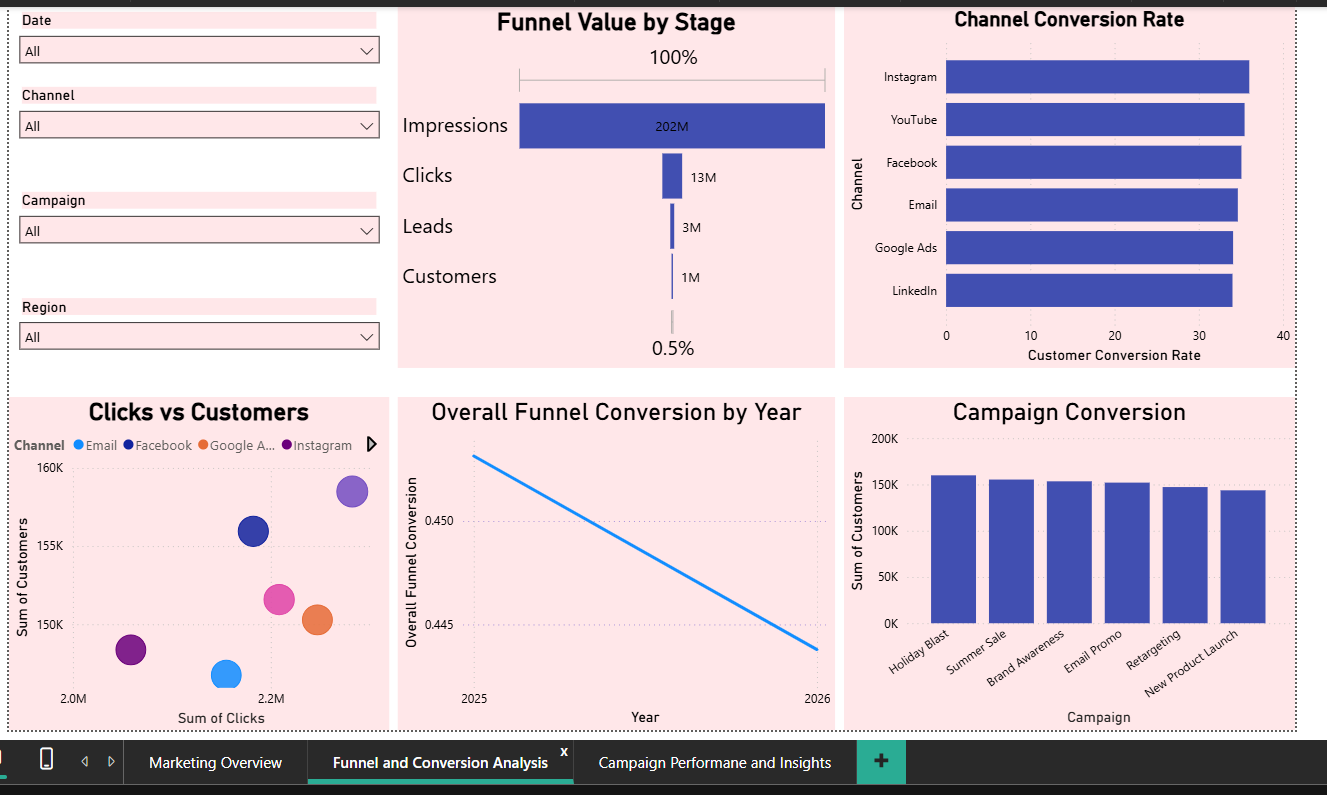

The dashboard page shown, as its layout file describes it:
{"tool":"powerbi","page":{"name":"Funnel and Conversion Analysis","canvas":[1280,720],"ordinal":1},"visuals":[{"type":"funnel","fields":{"Category":["FunnelStages.Stage"],"Y":["FunnelStages.Funnel Value"]},"box":[386.9,0,435.4,359.5],"z":0},{"type":"lineChart","fields":{"Category":["Marketing_Funnel_Data.Date.Variation.Date Hierarchy.Year","Marketing_Funnel_Data.Date.Variation.Date Hierarchy.Quarter","Marketing_Funnel_Data.Date.Variation.Date Hierarchy.Month","Marketing_Funnel_Data.Date.Variation.Date Hierarchy.Day"],"Y":["Marketing_Funnel_Data.Overall Funnel Conversion"]},"box":[386.9,388.1,435.4,332.1],"z":1000},{"type":"barChart","title":"Channel Conversion Rate ","fields":{"Category":["Marketing_Funnel_Data.Channel"],"Y":["Marketing_Funnel_Data.Customer Conversion Rate"]},"box":[831,0,449.1,359.5],"z":2000},{"type":"clusteredColumnChart","title":"Campaign Conversion","fields":{"Category":["Marketing_Funnel_Data.Campaign"],"Y":["Sum(Marketing_Funnel_Data.Customers)"]},"box":[831,388.1,449.1,332.1],"z":3000},{"type":"scatterChart","title":"Clicks vs Customers ","fields":{"X":["Sum(Marketing_Funnel_Data.Clicks)"],"Y":["Sum(Marketing_Funnel_Data.Customers)"],"Series":["Marketing_Funnel_Data.Channel"],"Size":["Sum(Marketing_Funnel_Data.Revenue_USD)"]},"box":[0,388.1,378.2,332.1],"z":4000},{"type":"slicer","fields":{"Values":["Marketing_Funnel_Data.Date"]},"box":[0,0,378.6,74.9],"z":5000},{"type":"slicer","fields":{"Values":["Marketing_Funnel_Data.Channel"]},"box":[0,74.9,378.6,74.9],"z":5001},{"type":"slicer","fields":{"Values":["Marketing_Funnel_Data.Campaign"]},"box":[0,179.7,378.6,74.9],"z":5002},{"type":"slicer","fields":{"Values":["Marketing_Funnel_Data.Region"]},"box":[0,284.5,378.6,74.9],"z":5003}]}

Visuals, with their boxes on the page's 1280x720 design canvas (x1, y1, x2, y2). These are canvas units, not pixel positions in the 1327x795 screenshot, which may show the page scaled, cropped or inside an application window:
funnel - FunnelStages.Stage x FunnelStages.Funnel Value: [left=387, top=0, right=822, bottom=360]
lineChart - Marketing_Funnel_Data.Date.Variation.Date Hierarchy.Year x Marketing_Funnel_Data.Date.Variation.Date Hierarchy.Quarter: [left=387, top=388, right=822, bottom=720]
"Channel Conversion Rate " barChart: [left=831, top=0, right=1280, bottom=360]
"Campaign Conversion" clusteredColumnChart: [left=831, top=388, right=1280, bottom=720]
"Clicks vs Customers " scatterChart: [left=0, top=388, right=378, bottom=720]
slicer - Marketing_Funnel_Data.Date: [left=0, top=0, right=379, bottom=75]
slicer - Marketing_Funnel_Data.Channel: [left=0, top=75, right=379, bottom=150]
slicer - Marketing_Funnel_Data.Campaign: [left=0, top=180, right=379, bottom=255]
slicer - Marketing_Funnel_Data.Region: [left=0, top=284, right=379, bottom=359]
